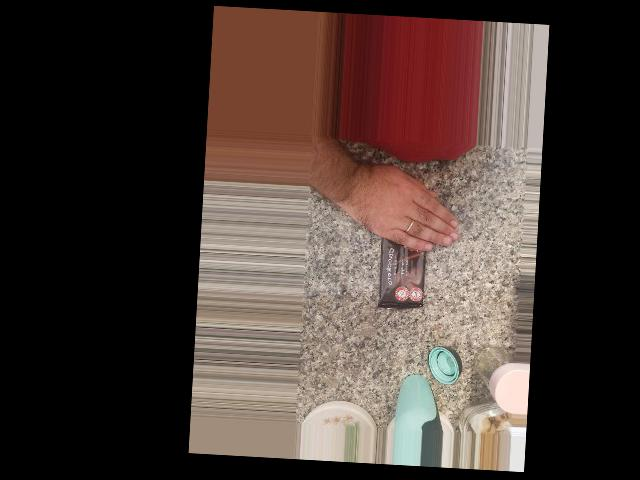chocolate: (368, 200, 434, 313)
